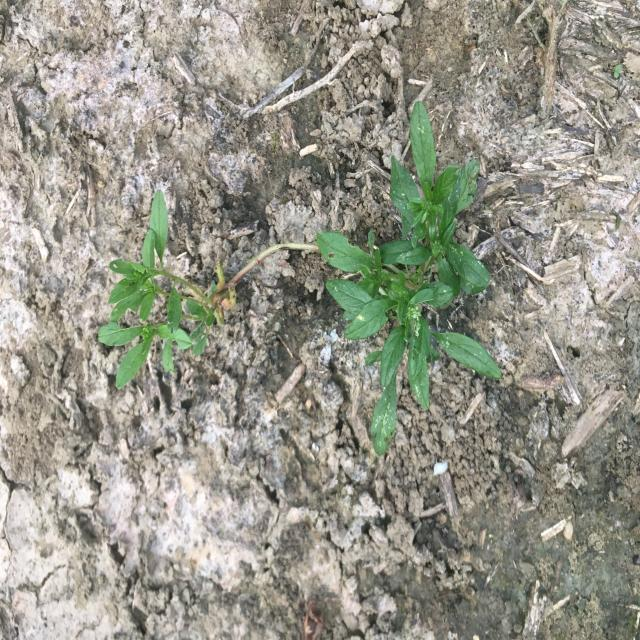Waterhemp: (96, 100, 504, 457)
